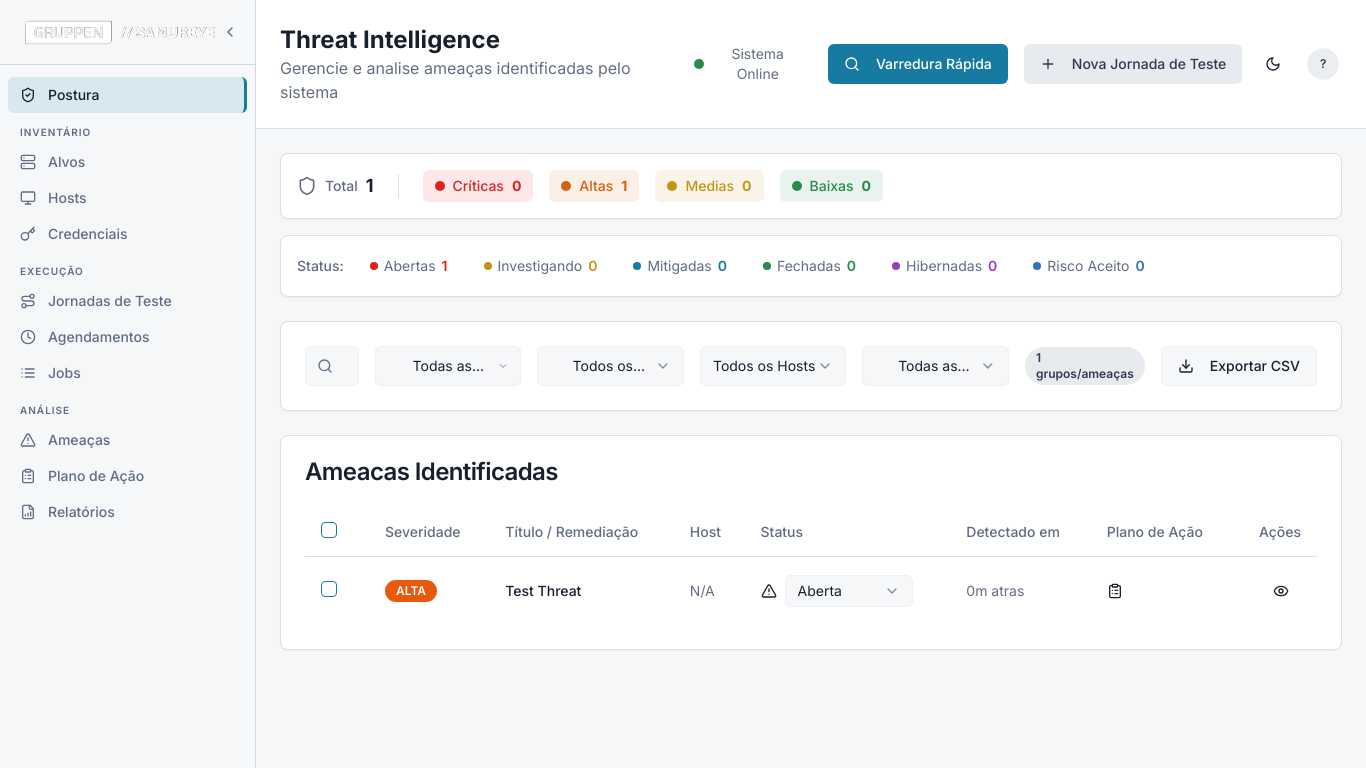
UI-03 — Findings OWASP Source Filter › renders fallback "N/A" badge in gray when finding has no owaspCategory in evidence
Click the dropdown with test id "select-source-filter".
click(936, 366)  # box [862,346,1009,386]
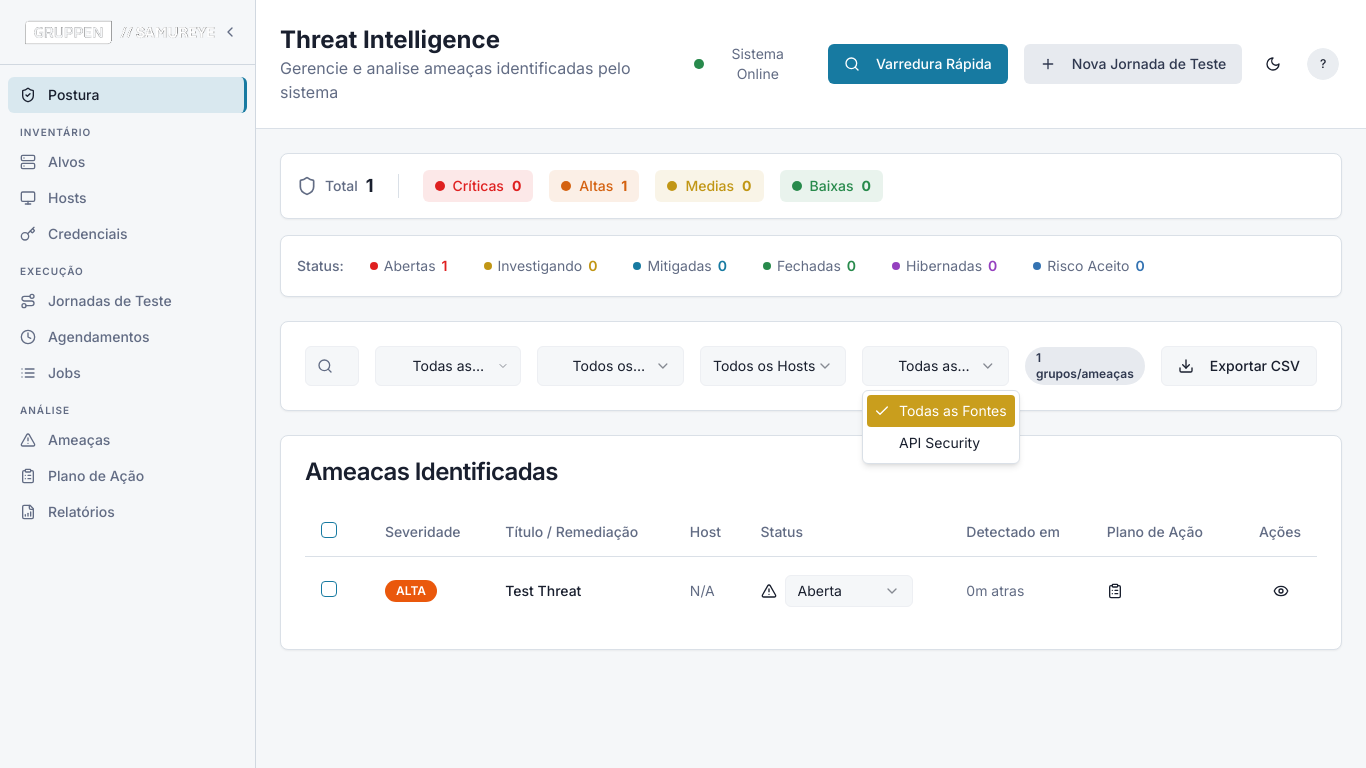
Click the option "API Security".
click(940, 442)  # box [899,434,980,451]
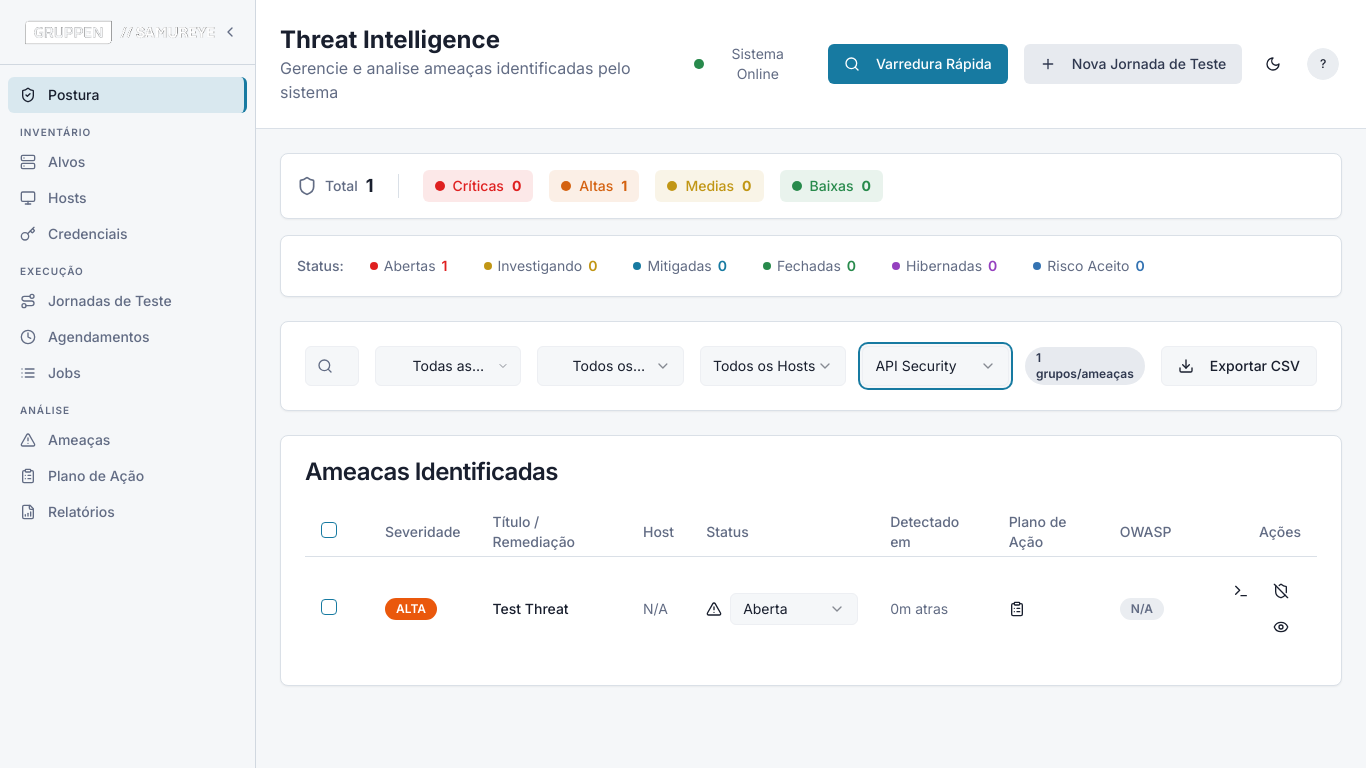
Expected: the text with test id "owasp-badge-na" is shown, [1120,598,1164,620]
Expected: the text with test id "owasp-badge-na" reads "N/A", [1131,600,1153,616]
